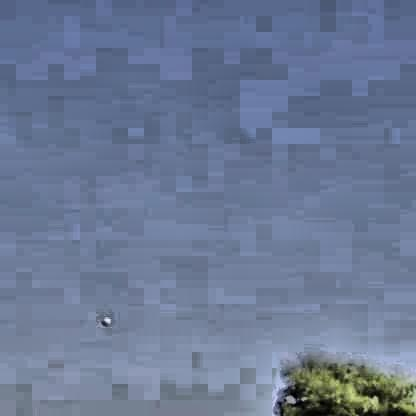golfball: (98, 315, 108, 325)
